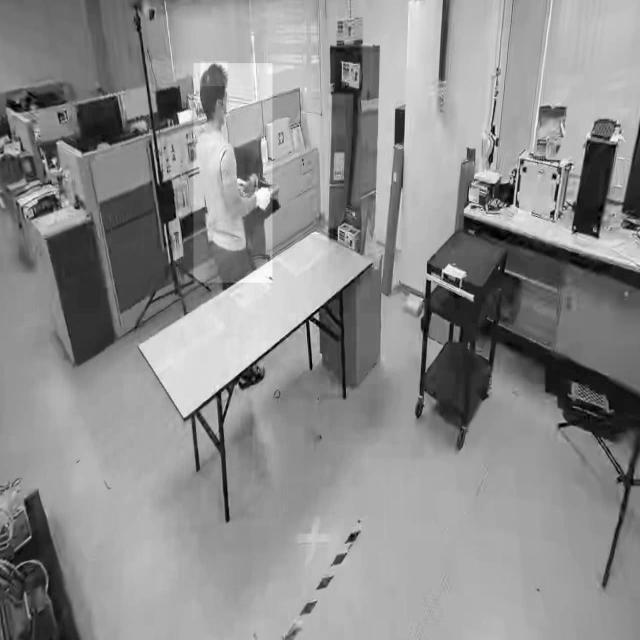hand_glove: (254, 175, 272, 218)
head_nohelmet: (200, 61, 228, 87)
person: (193, 63, 273, 284)
